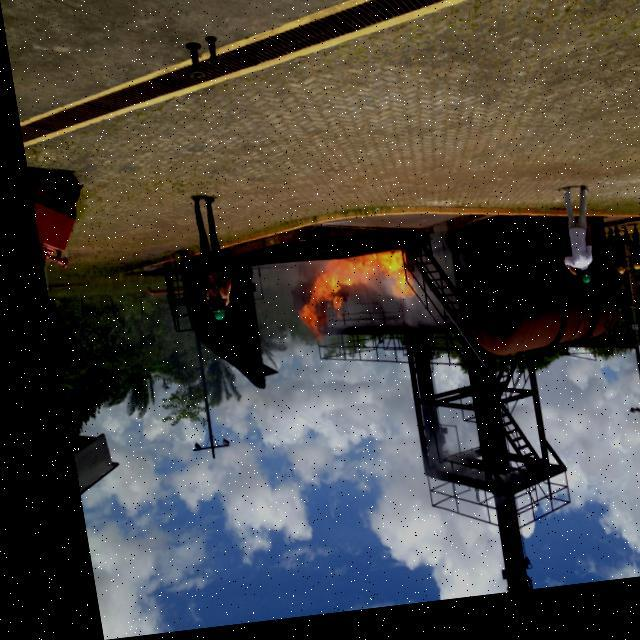Fire: (277, 254, 409, 352)
